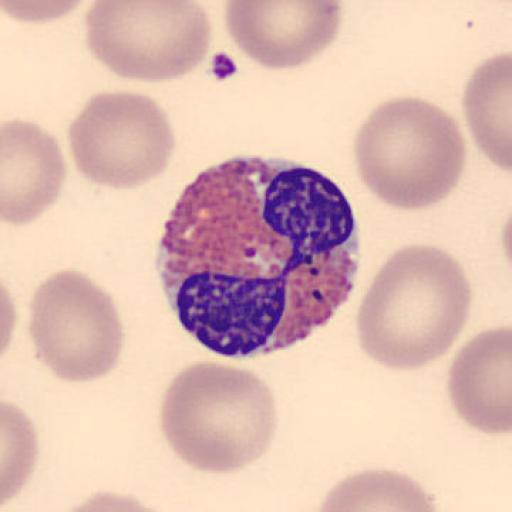RBC: (355, 242, 473, 372), (158, 358, 280, 474), (352, 94, 467, 212), (25, 266, 124, 384), (68, 90, 177, 191), (84, 0, 213, 85), (223, 1, 344, 71), (446, 325, 512, 436), (2, 117, 68, 226), (461, 50, 512, 174), (314, 467, 445, 512), (1, 398, 40, 510), (44, 488, 184, 512), (2, 0, 93, 24), (0, 276, 18, 358)
WBC: (156, 156, 362, 357)
